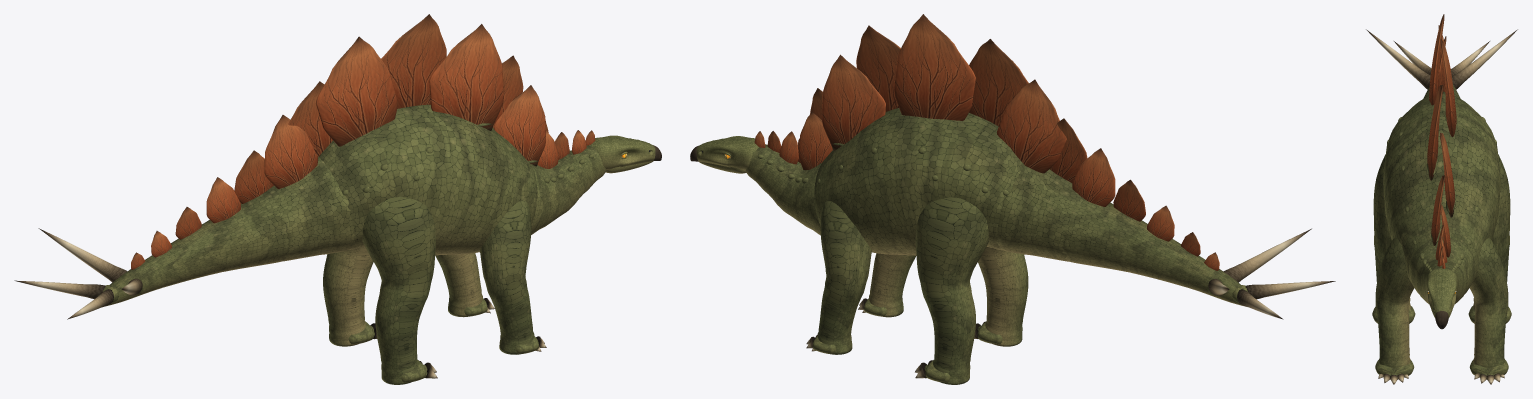
The model's file is stegosaurus.glb.
The picture shows the model from 3 angles, left to right: view 1: azimuth 30°, elevation 25°; view 2: azimuth 150°, elevation 25°; view 3: azimuth 270°, elevation 25°; orthographic projection. The views are drawn at different scales.
Visible parts, largest first — view 1: Stego_Torso, Stego_Hindlimb_1, Stego_Plate_9, Stego_Forelimb_1, Stego_TailSeg0, Stego_Plate_7, Stego_TailSeg1, Stego_Hindlimb_0, Stego_Plate_8, Stego_Neck, Stego_TailSeg2, Stego_Plate_11 (+11 smaller); view 2: Stego_Torso, Stego_Hindlimb_0, Stego_Plate_8, Stego_TailSeg0, Stego_Forelimb_0, Stego_Plate_10, Stego_TailSeg1, Stego_Plate_6, Stego_Hindlimb_1, Stego_Neck, Stego_Plate_9, Stego_TailSeg2 (+11 smaller); view 3: Stego_Torso, Stego_Forelimb_1, Stego_Forelimb_0, Stego_Neck, Stego_Hindlimb_1, Stego_Hindlimb_0, Stego_UpperCranium, Stego_Plate_8, Stego_Plate_7, Stego_Plate_9, Stego_Plate_6, Stego_ThagoSpike_Ant_L (+10 smaller).
Part boxes in pixels (bbox=[...]): Stego_Torso: bbox=[318, 104, 537, 255]; Stego_Hindlimb_1: bbox=[362, 196, 435, 384]; Stego_Plate_9: bbox=[316, 36, 397, 146]; Stego_Forelimb_1: bbox=[480, 200, 534, 354]; Stego_TailSeg0: bbox=[267, 157, 354, 261]; Stego_Plate_7: bbox=[429, 24, 503, 130]; Stego_TailSeg1: bbox=[205, 191, 289, 271]; Stego_Hindlimb_0: bbox=[323, 246, 373, 346]; Stego_Plate_8: bbox=[381, 14, 446, 108]; Stego_Neck: bbox=[531, 145, 606, 234]; Stego_TailSeg2: bbox=[150, 222, 226, 287]; Stego_Plate_11: bbox=[264, 115, 317, 188]; Stego_Torso: bbox=[814, 108, 1024, 255]; Stego_Hindlimb_0: bbox=[915, 197, 988, 384]; Stego_Plate_8: bbox=[894, 14, 975, 120]; Stego_TailSeg0: bbox=[996, 166, 1079, 261]; Stego_Forelimb_0: bbox=[817, 201, 871, 354]; Stego_Plate_10: bbox=[997, 79, 1066, 173]; Stego_TailSeg1: bbox=[1061, 196, 1145, 272]; Stego_Plate_6: bbox=[822, 54, 885, 150]; Stego_Hindlimb_1: bbox=[978, 246, 1028, 346]; Stego_Neck: bbox=[745, 144, 821, 235]; Stego_Plate_9: bbox=[969, 39, 1028, 126]; Stego_TailSeg2: bbox=[1125, 222, 1200, 287]; Stego_Torso: bbox=[1383, 91, 1500, 282]; Stego_Forelimb_1: bbox=[1375, 238, 1414, 367]; Stego_Forelimb_0: bbox=[1469, 238, 1508, 367]; Stego_Neck: bbox=[1409, 237, 1474, 303]; Stego_Hindlimb_1: bbox=[1373, 154, 1410, 309]; Stego_Hindlimb_0: bbox=[1473, 154, 1510, 309]; Stego_UpperCranium: bbox=[1426, 268, 1457, 317]; Stego_Plate_8: bbox=[1440, 39, 1456, 136]; Stego_Plate_7: bbox=[1427, 84, 1443, 180]; Stego_Plate_9: bbox=[1428, 14, 1444, 105]; Stego_Plate_6: bbox=[1440, 132, 1454, 217]; Stego_ThagoSpike_Ant_L: bbox=[1452, 29, 1517, 89].
Bounding box in the file's own units: 7.25 × 3.73 × 1.69.
9 materials, 7 textured.
